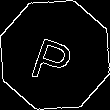P_N: (29, 25, 81, 85)
